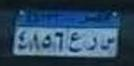4: (16, 29, 27, 52)
5: (42, 33, 52, 50)
6: (53, 29, 64, 53)
8: (27, 31, 41, 52)
ain: (68, 28, 82, 54)
raa: (84, 34, 97, 52)
seen: (100, 35, 115, 53)
